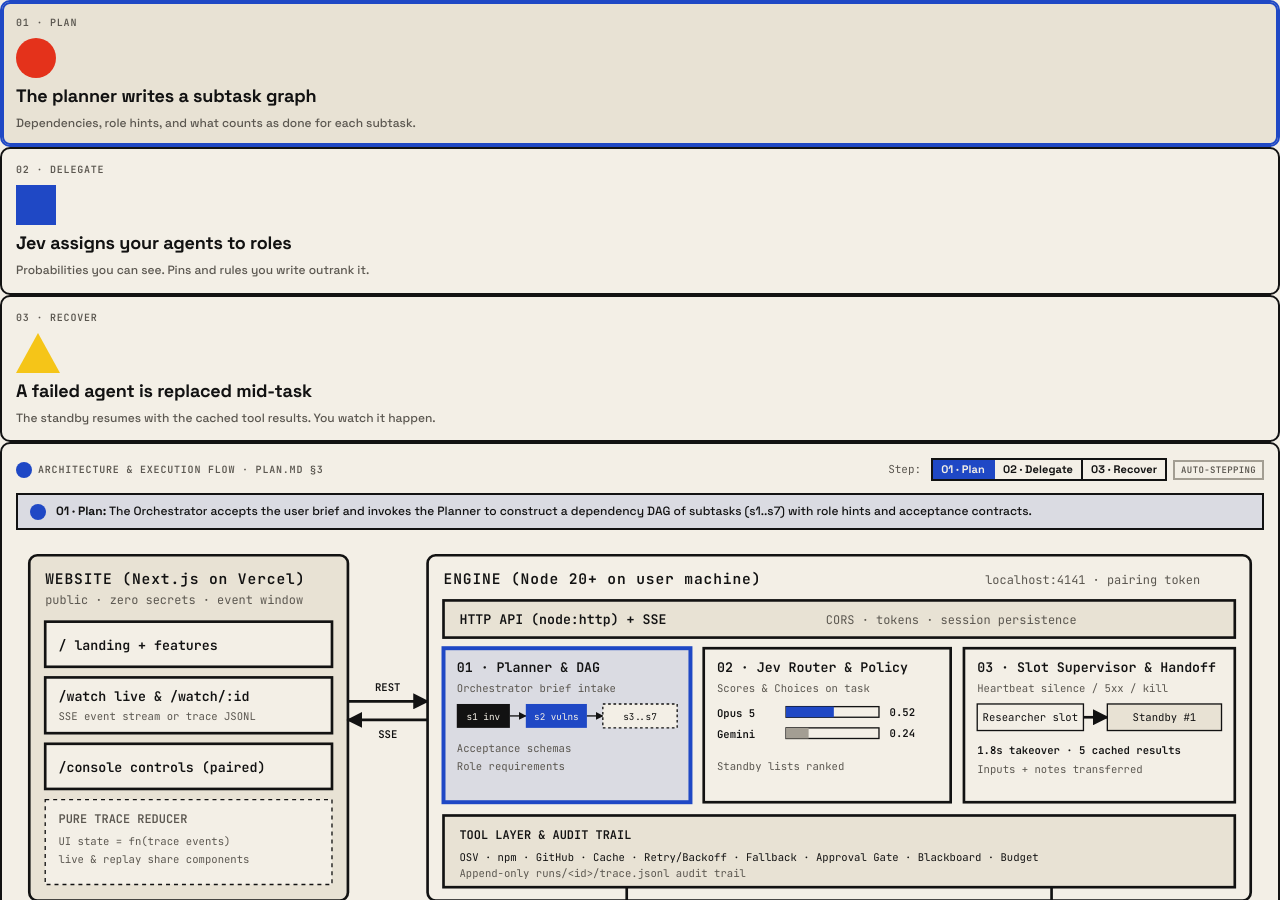
Test: Landing Page › allows switching between 3 steps in HowItWorks
The width and height of the screenshot is (1280, 900).
Step 1. Click the button "02 · Delegate" → (1039, 470), box [995, 460, 1083, 480]
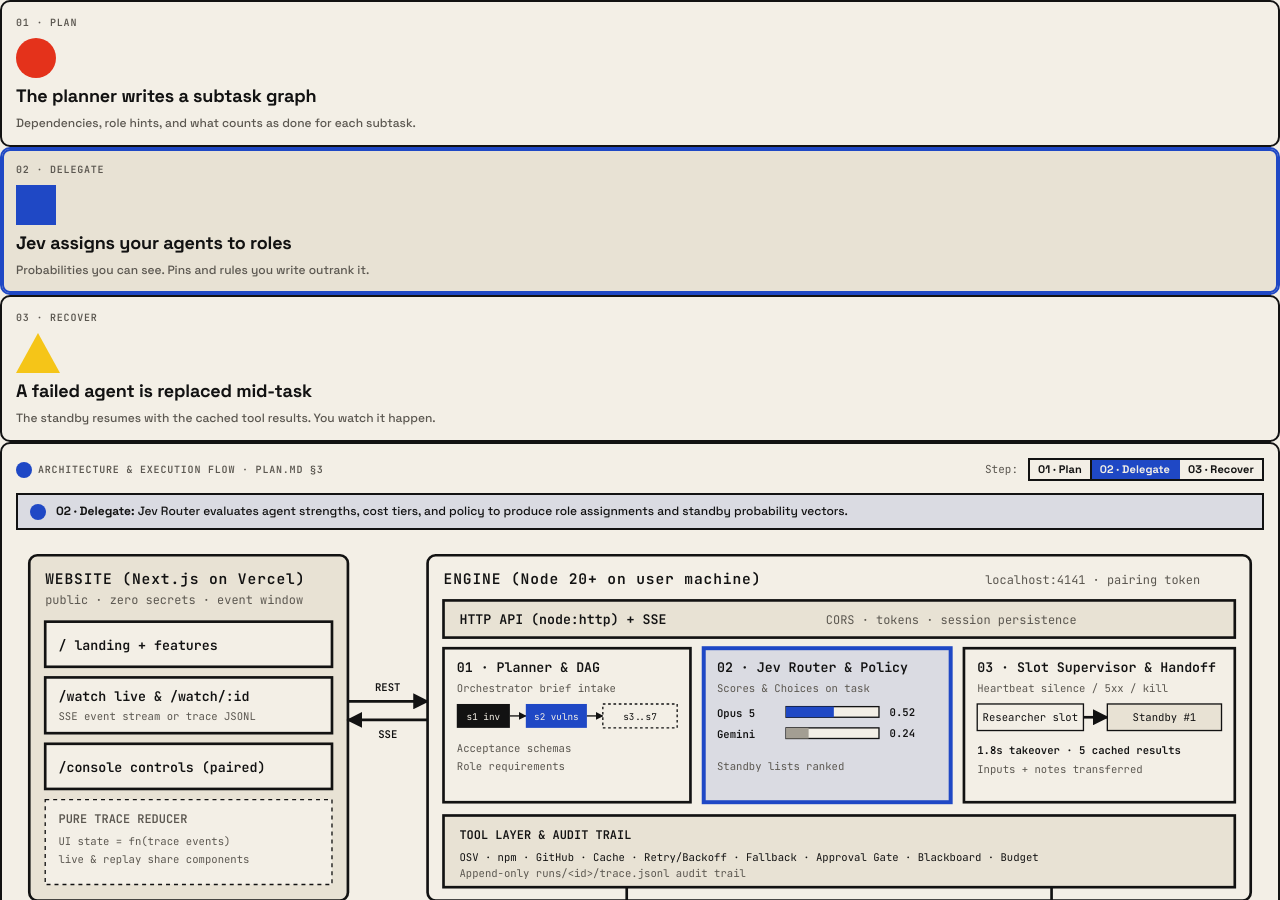
Now the text "Jev Router evaluates agent strengths" is shown, box [135, 504, 848, 520]
Step 2. Click the button "03 · Recover" → (1221, 470), box [1180, 460, 1262, 480]
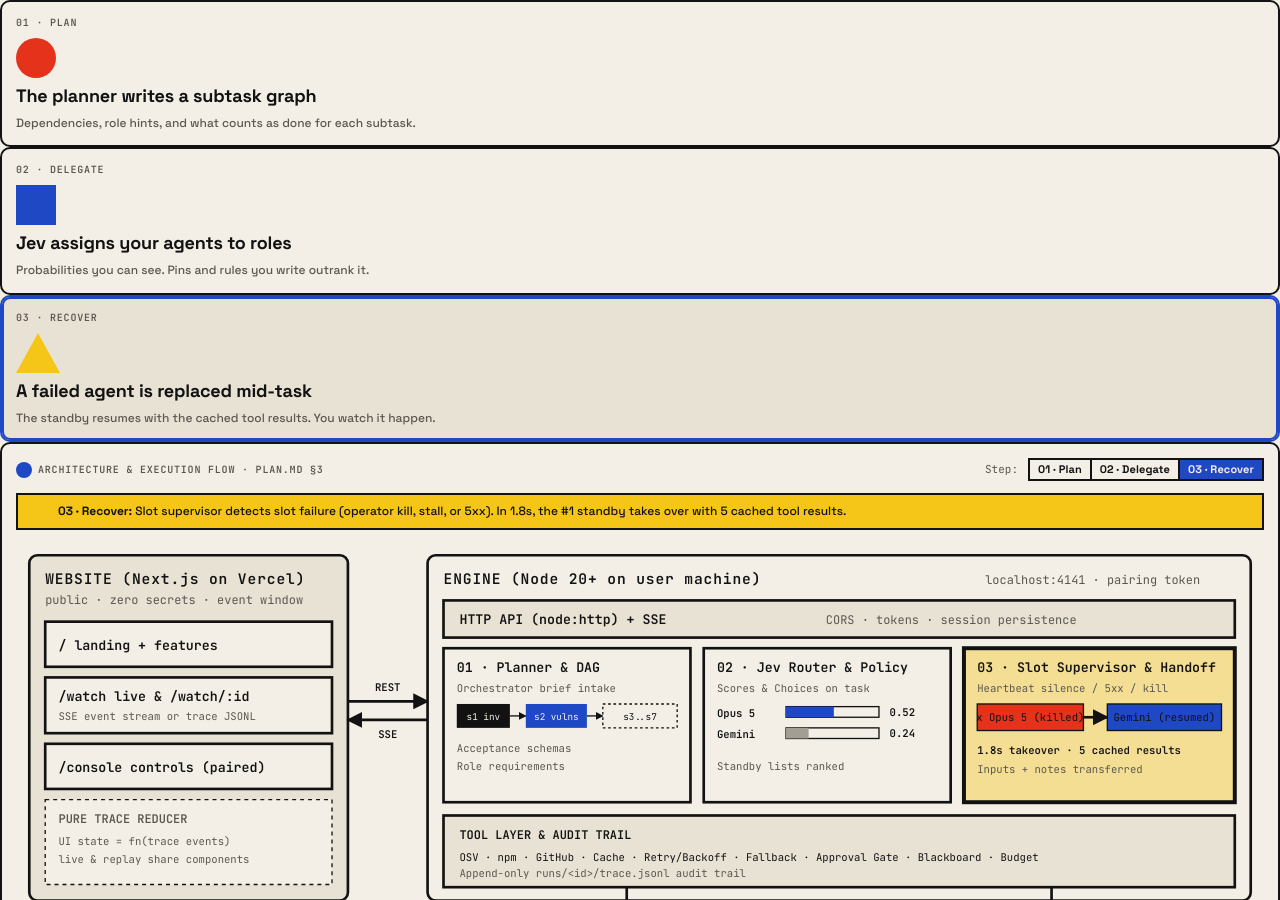
Now the text "Slot supervisor detects slot failure" is shown, box [132, 504, 846, 520]
